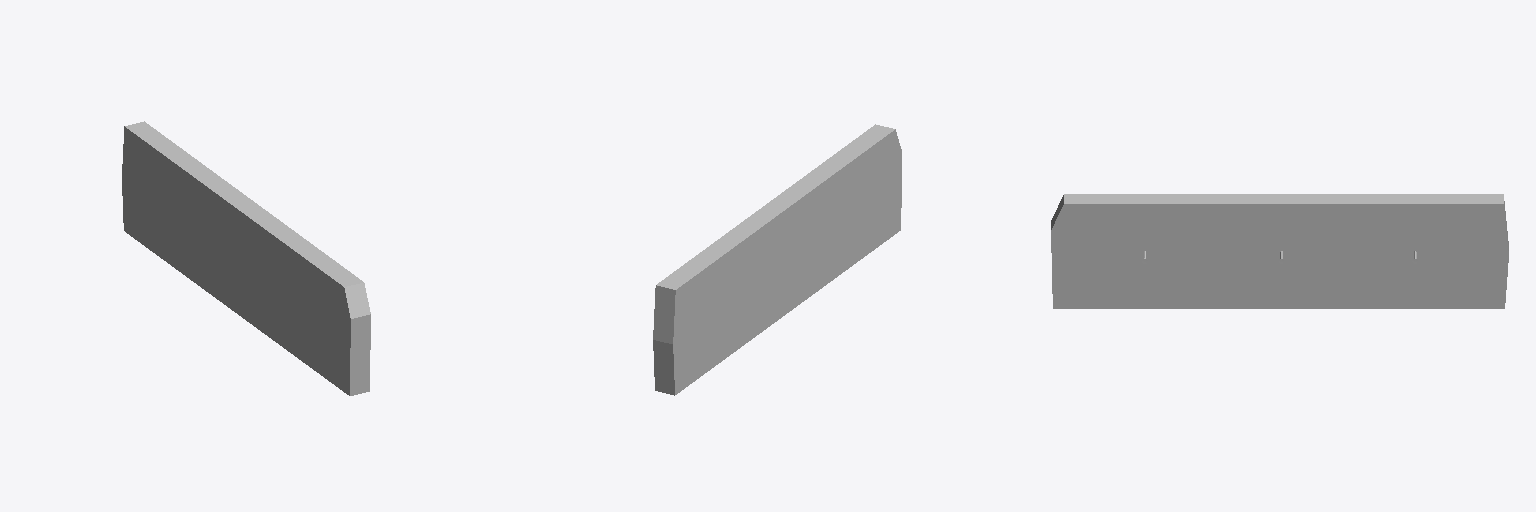
The model's file is rack_a_clees.obj.
The picture shows the model from 3 angles: view 1: azimuth 30°, elevation 25°; view 2: azimuth 150°, elevation 25°; view 3: azimuth 270°, elevation 25°; orthographic projection.
Visible parts, largest first — view 1: Cube; view 2: Cube; view 3: Cube.
Part boxes in pixels (x1,y1,x2,y2): Cube: (122, 121, 370, 395); Cube: (653, 124, 901, 395); Cube: (1051, 194, 1508, 308).
Size of the model in its own units: 0.0392 by 0.1 by 0.395.